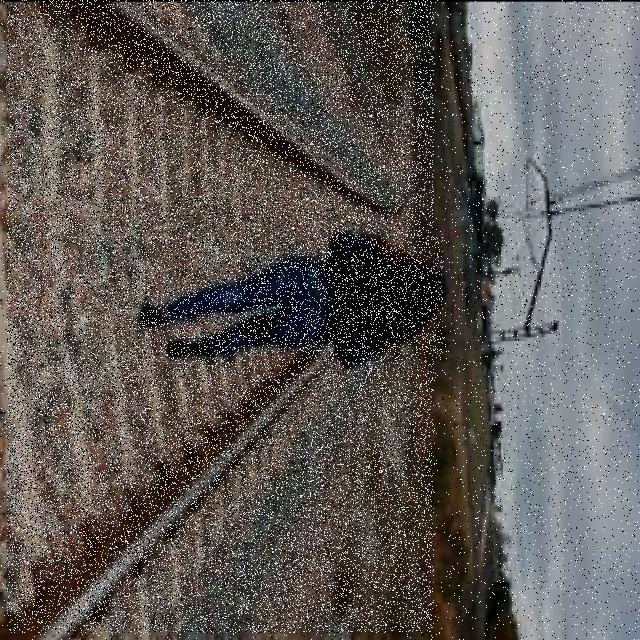rail: (9, 1, 435, 634)
